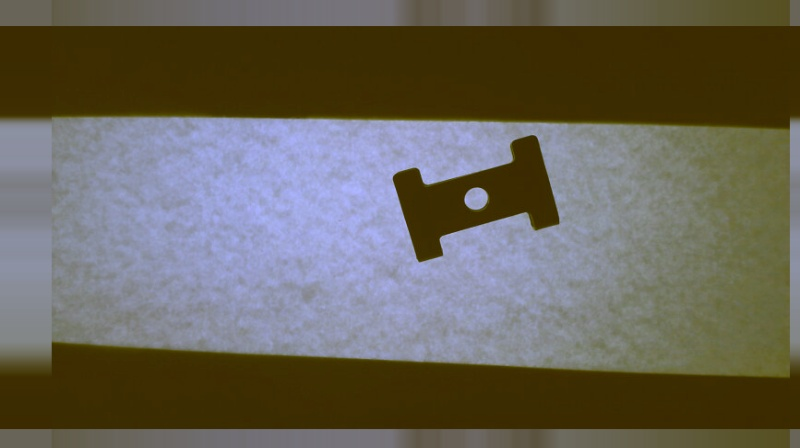O002: (388, 134, 564, 264)
